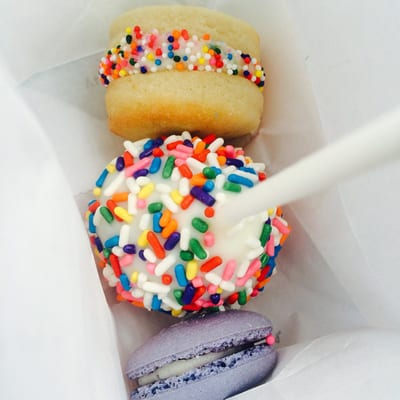salad: (84, 133, 291, 320), (98, 5, 266, 142)
